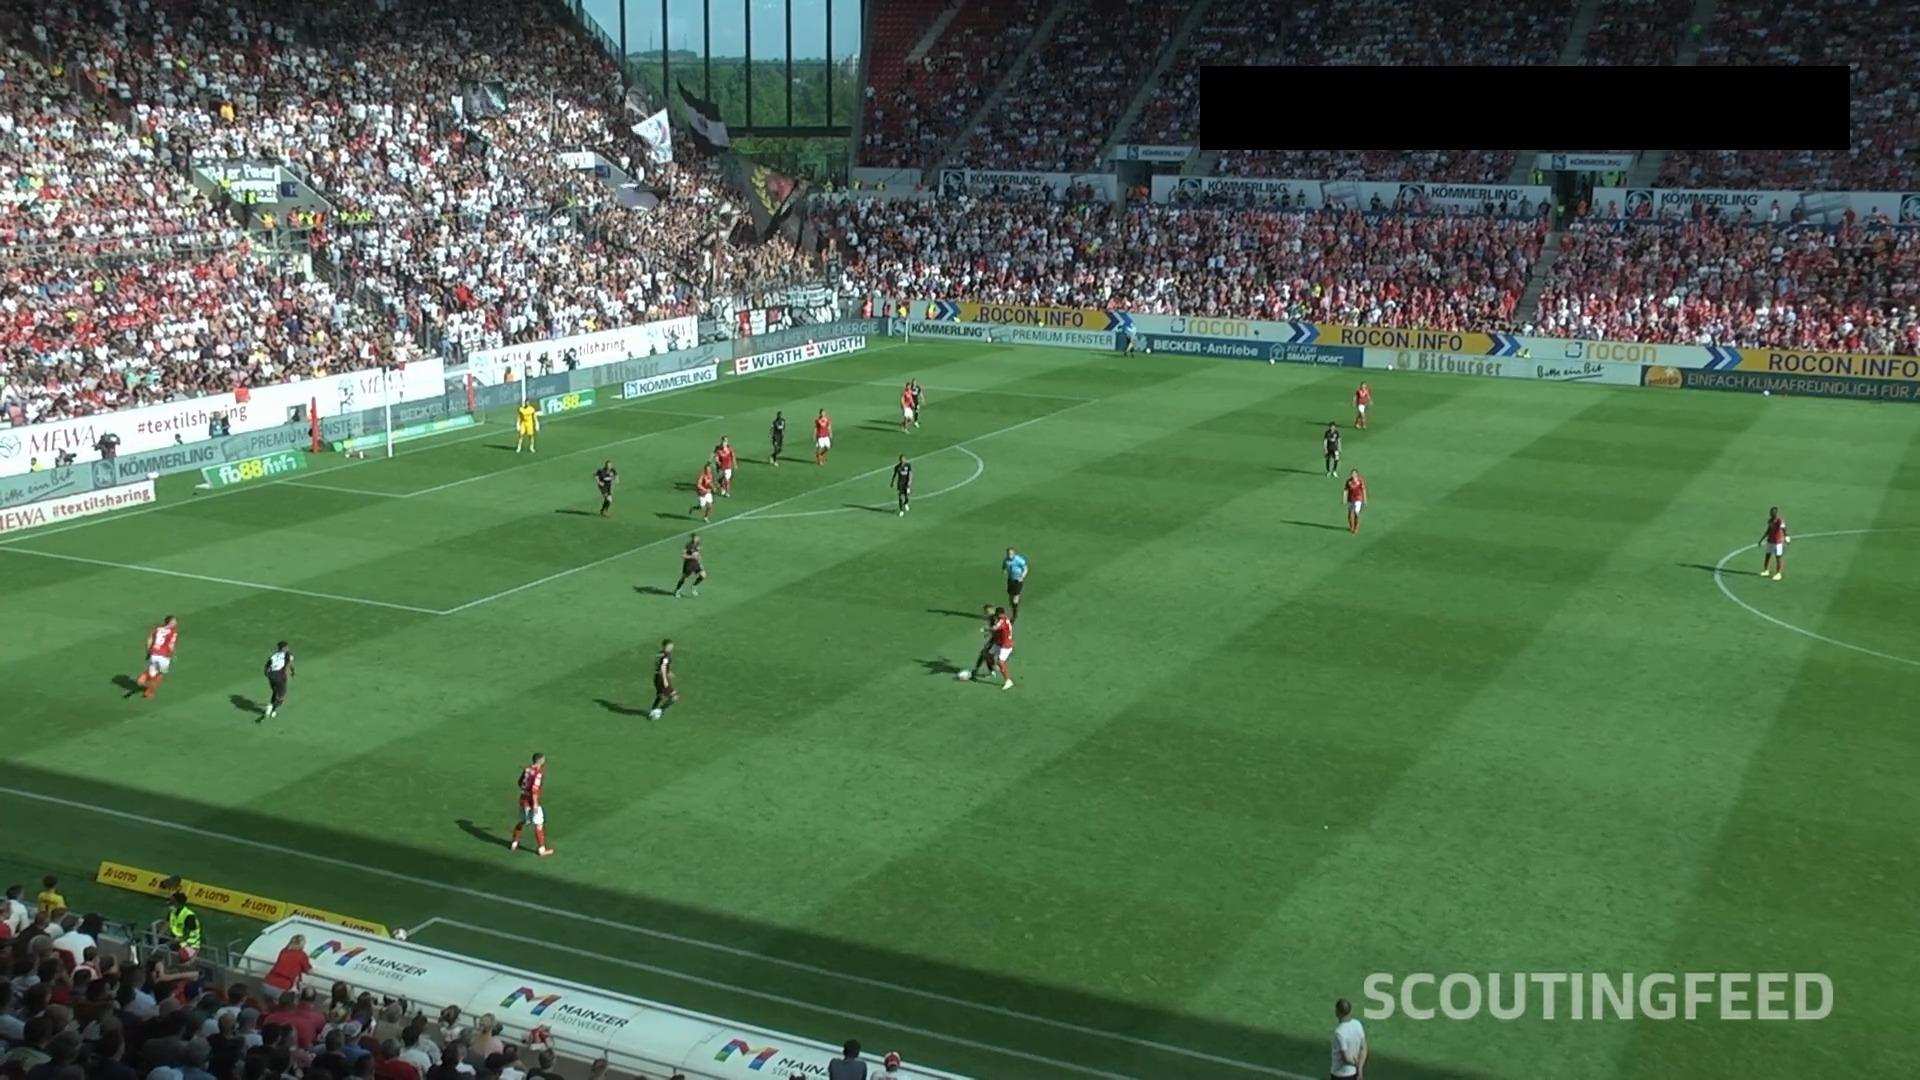ball: (957, 667, 972, 682)
